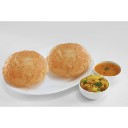poori: (5, 51, 46, 88), (48, 43, 90, 76)
